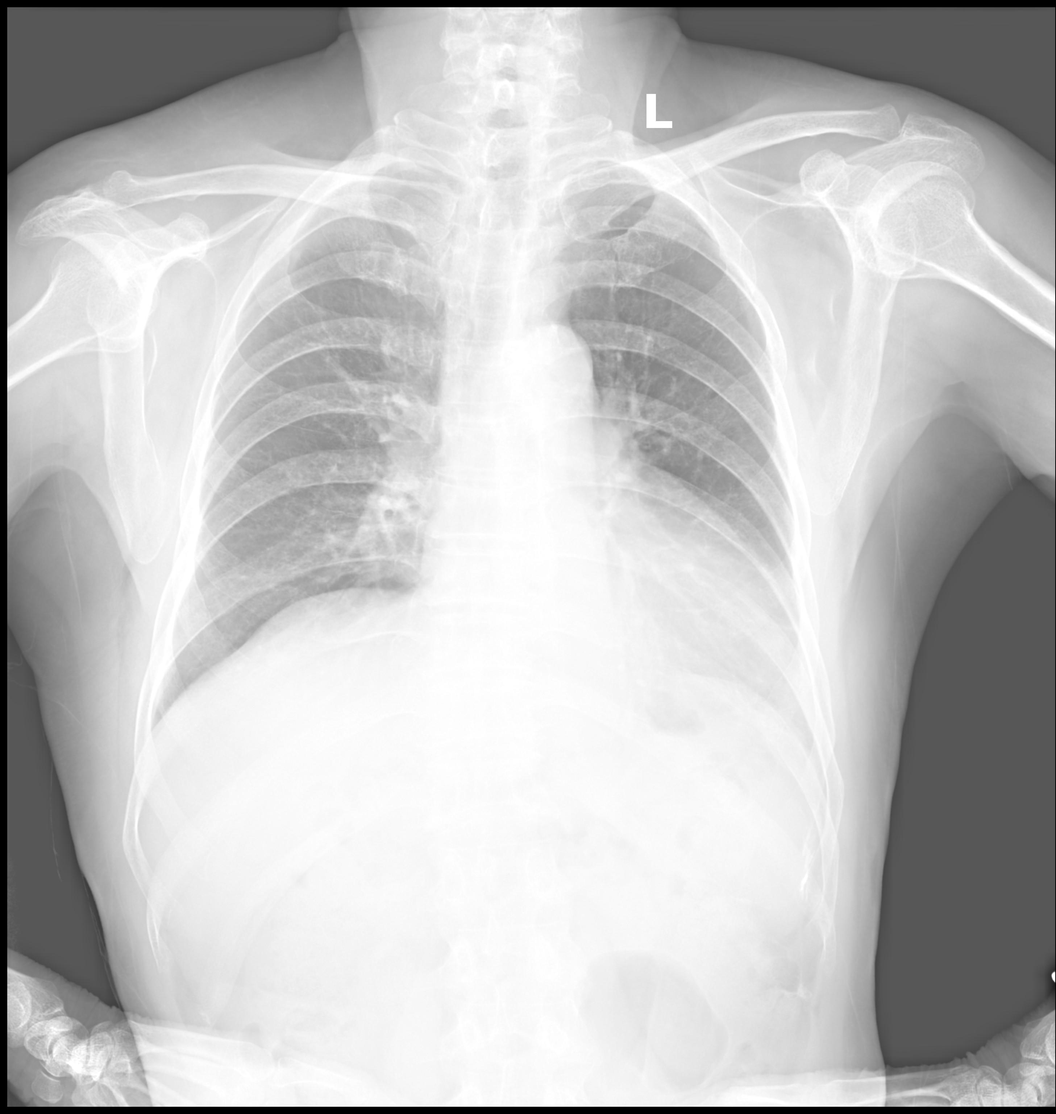Cardiomegaly: (417, 530, 801, 667)
